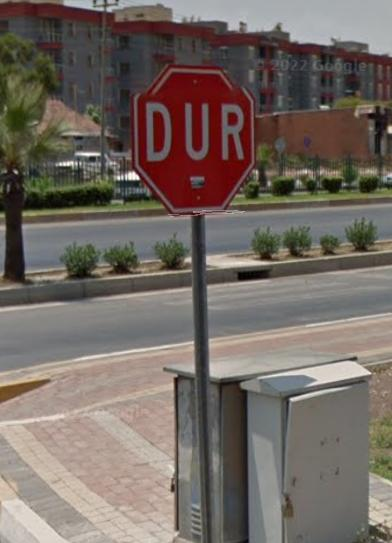stop: (133, 65, 259, 210)
